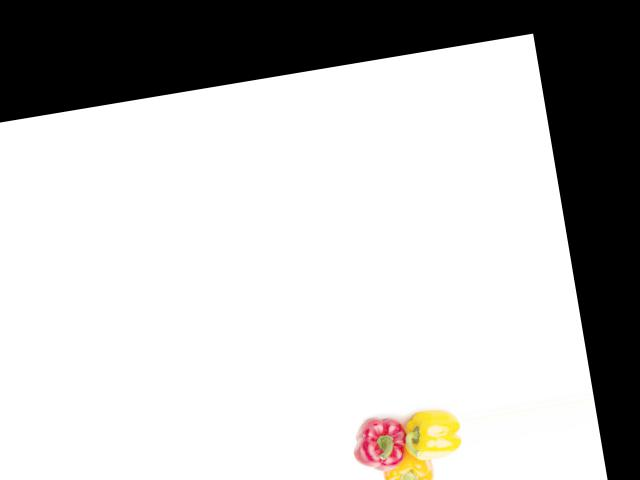bell_pepper: (402, 401, 465, 464)
